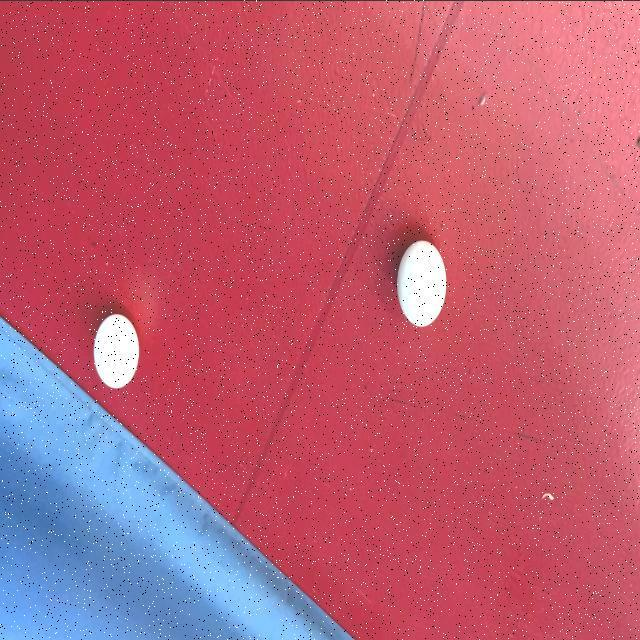ping-pong-ball: (382, 221, 454, 351), (86, 303, 147, 403)
